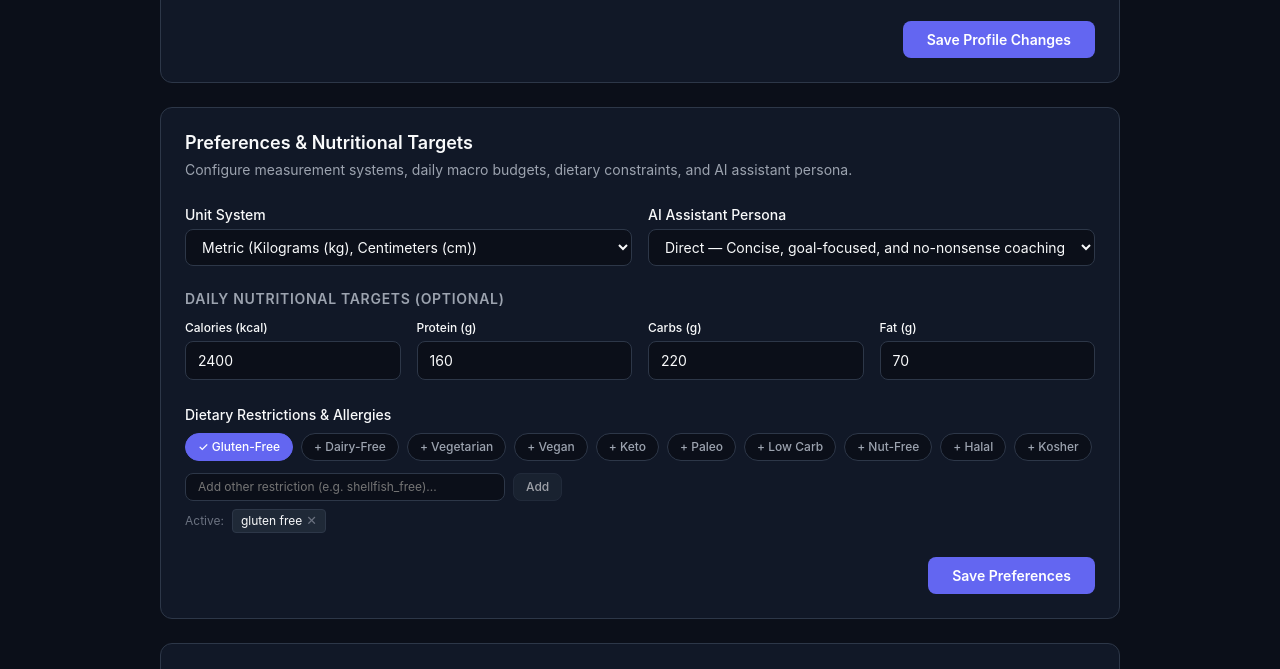
Test: Phase 8D — Profile, Preferences & Goals Tests › 8. preferences update validation catches invalid negative calorie targets
(page scrolled)
Step 1. Replace the text in the number field labelled "Calories (kcal)" with "-500" → (293, 360), box x1=185 y1=341 x2=400 y2=380
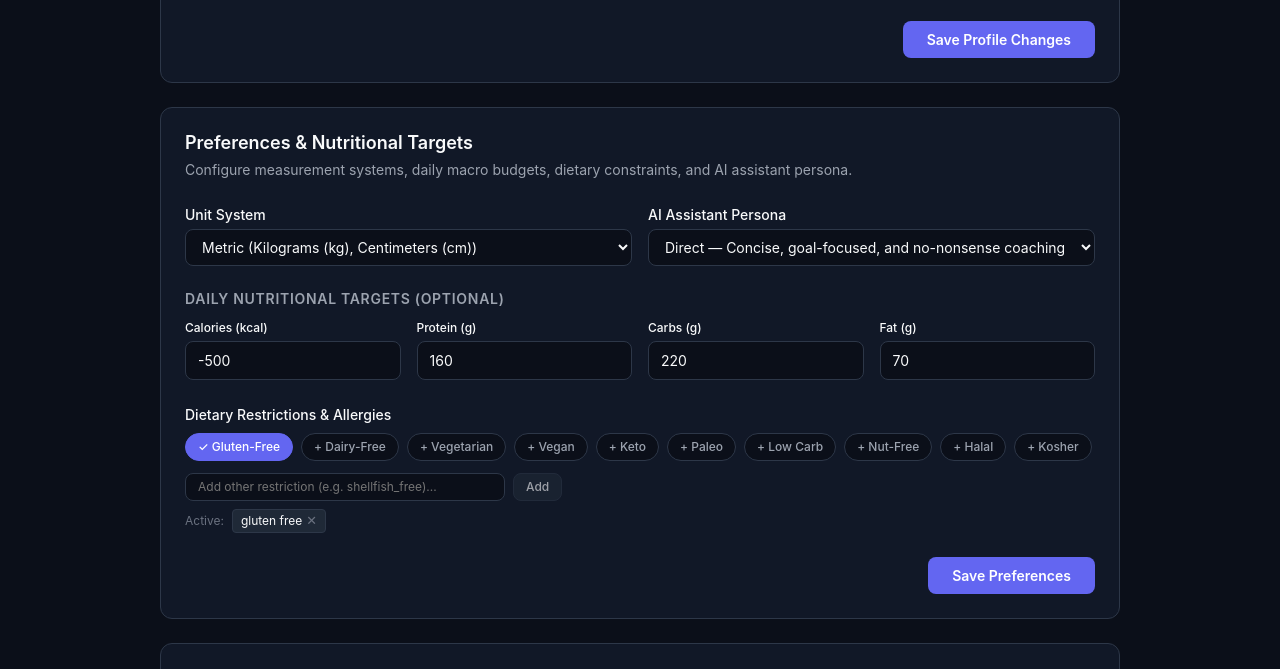
Step 2. Click the button "Save Preferences" → (1012, 576), box x1=928 y1=557 x2=1095 y2=594
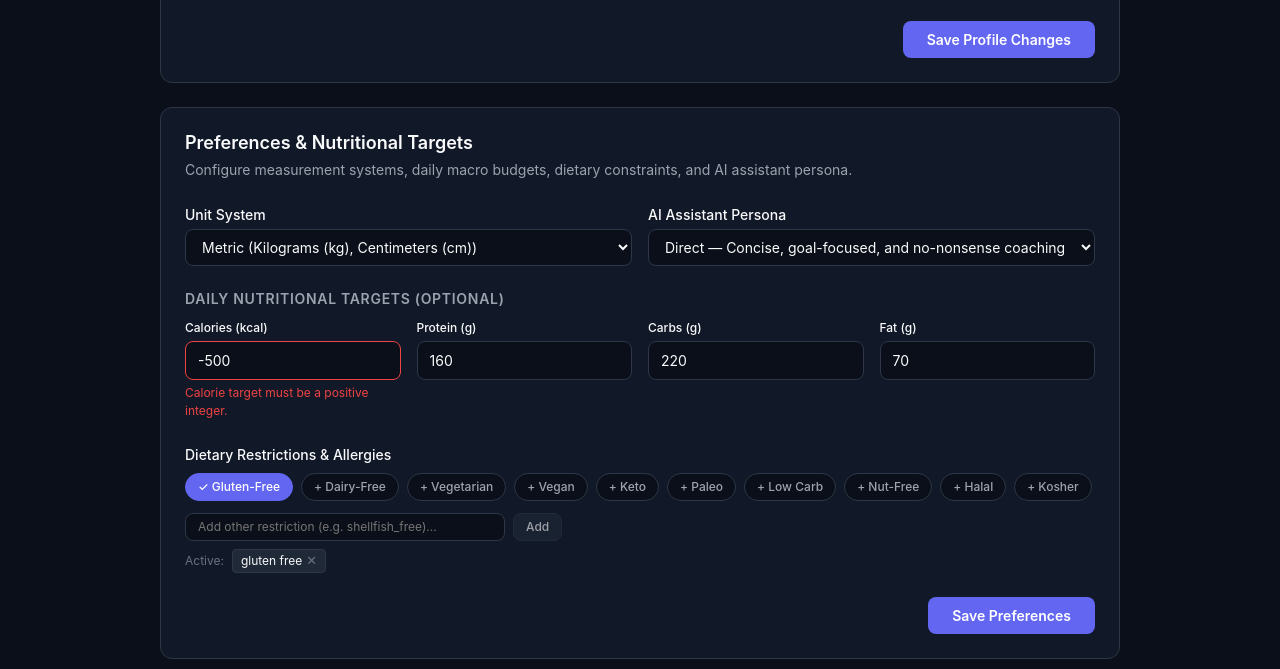
Check: the text "Calorie target must be a positive integer." is shown, box x1=185 y1=384 x2=400 y2=420
